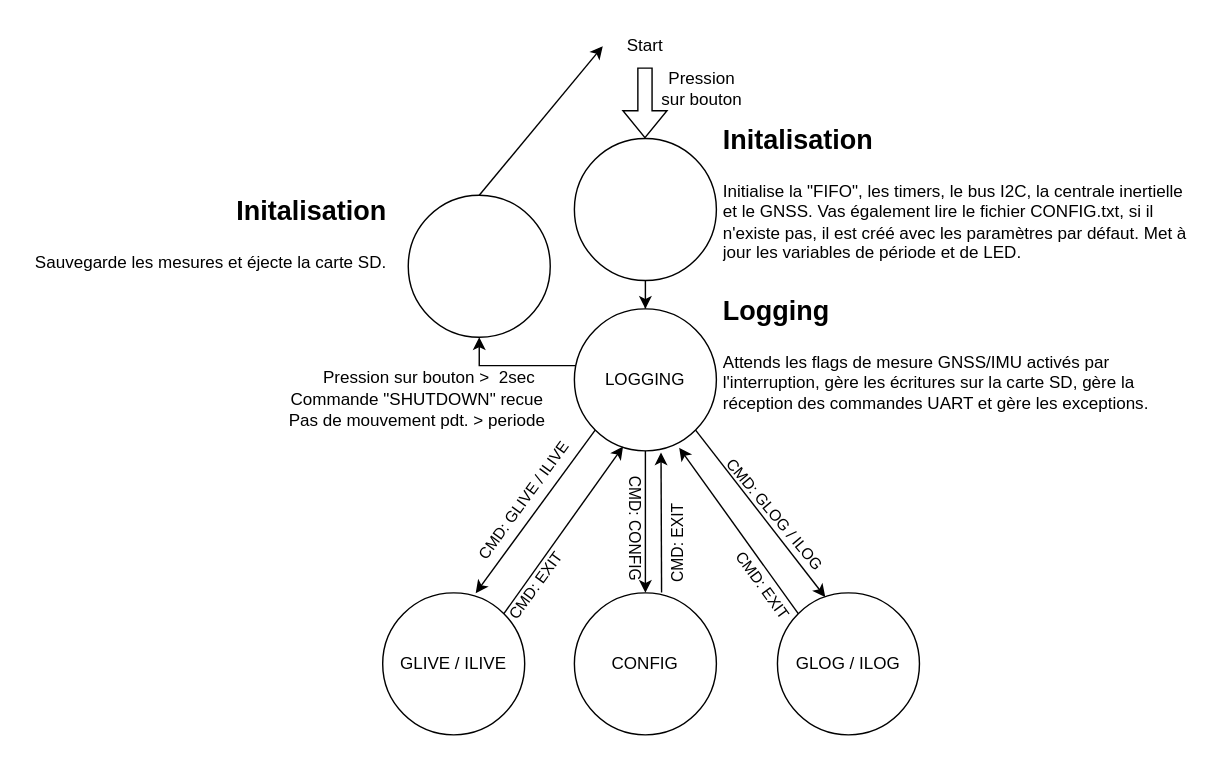
Some shapes in this 1223 by 760 pixel diagram are drawn without their labels. The centre of each missing label's shape, as x and y in pixels:
"INITIALISATION ET AUTO-CONFIG" belongs at (644,208).
"POWER OFF" belongs at (478,265).
